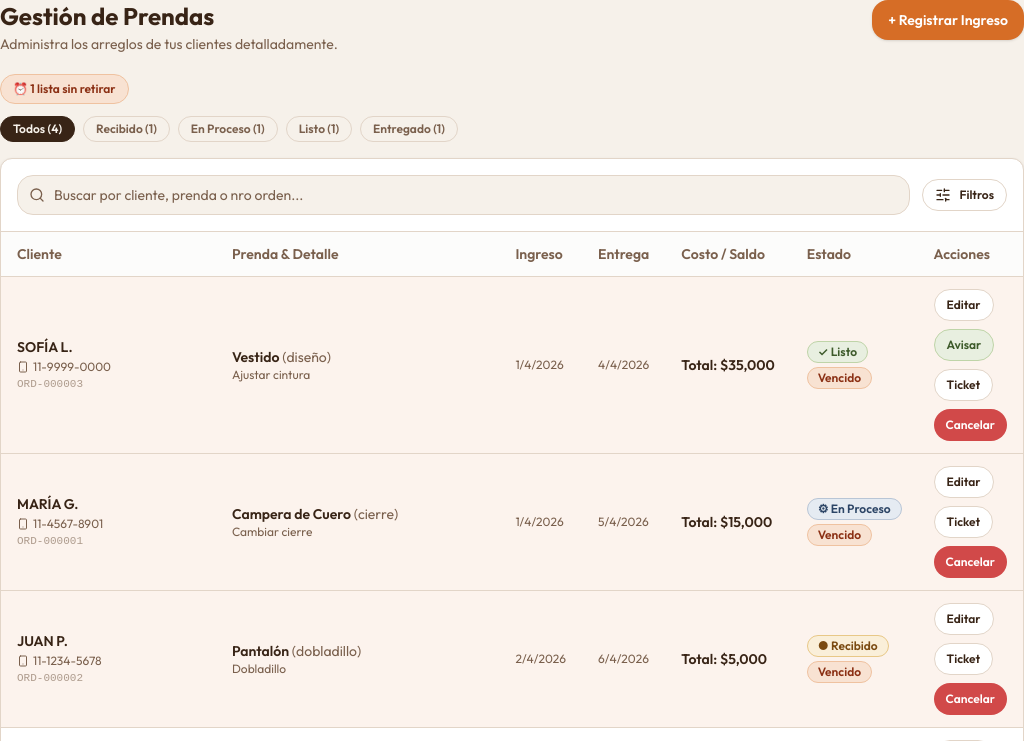
Garments page › filters garments by status when chip is clicked
The image size is (1024, 741).
Expected: the text "Campera de Cuero (cierre)" is shown, [232,505,398,523]
Click the button "Listo (1)": (319, 129) [286,116,352,142]
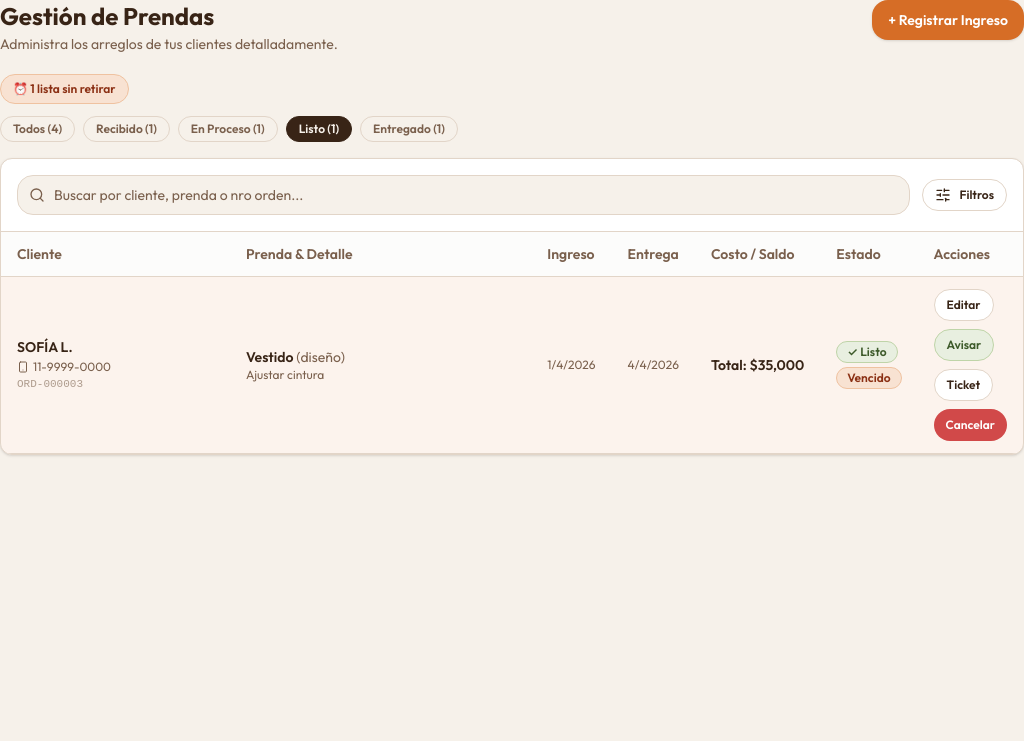
Expected: the text "Vestido (diseño)" is shown, [246,348,345,366]
Now the text "Campera de Cuero" is not shown
Now the text "Pantalón" is not shown
